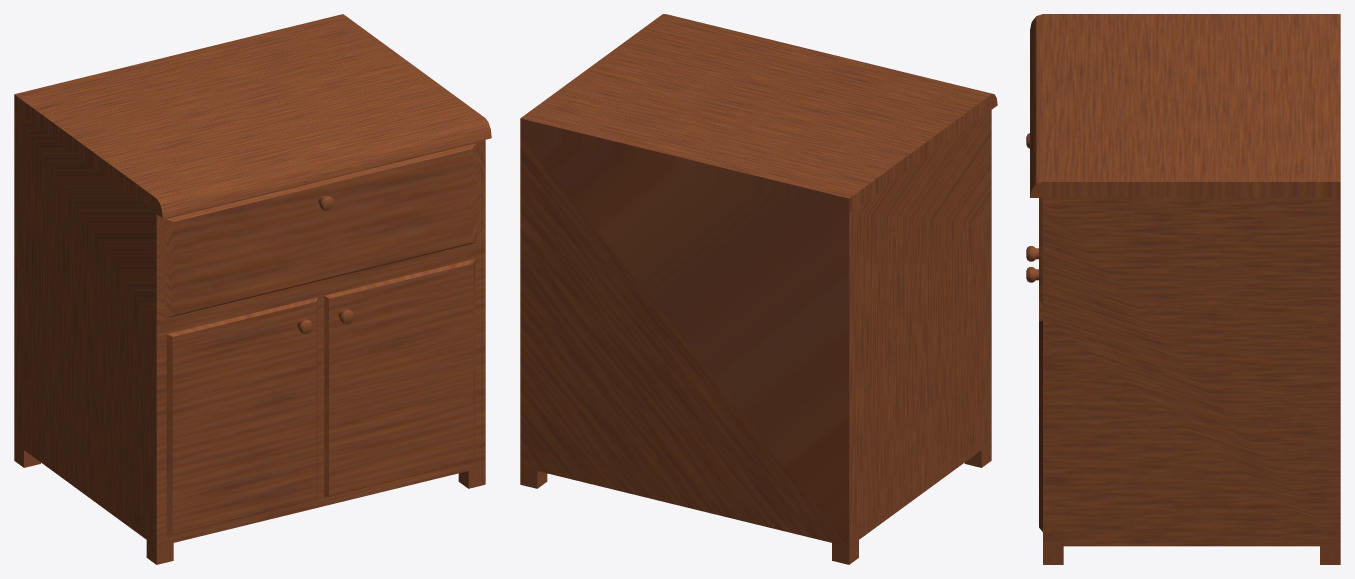
The model's file is K_chenschrank_0_84.fbx.
3 renders of one model, left to right at view 1: azimuth 30°, elevation 25°; view 2: azimuth 150°, elevation 25°; view 3: azimuth 270°, elevation 25°, orthographic. The views are drawn at different scales.
Visible parts, largest first — view 1: Küchenschrank 0,84m; view 2: Küchenschrank 0,84m; view 3: Küchenschrank 0,84m.
Part boxes in pixels (box(x1,y1,x2,y2)): Küchenschrank 0,84m: box(14, 14, 491, 564); Küchenschrank 0,84m: box(520, 14, 997, 564); Küchenschrank 0,84m: box(1026, 14, 1340, 564).
Bounding box in the file's own units: 0.8412 × 0.8954 × 0.6655.
